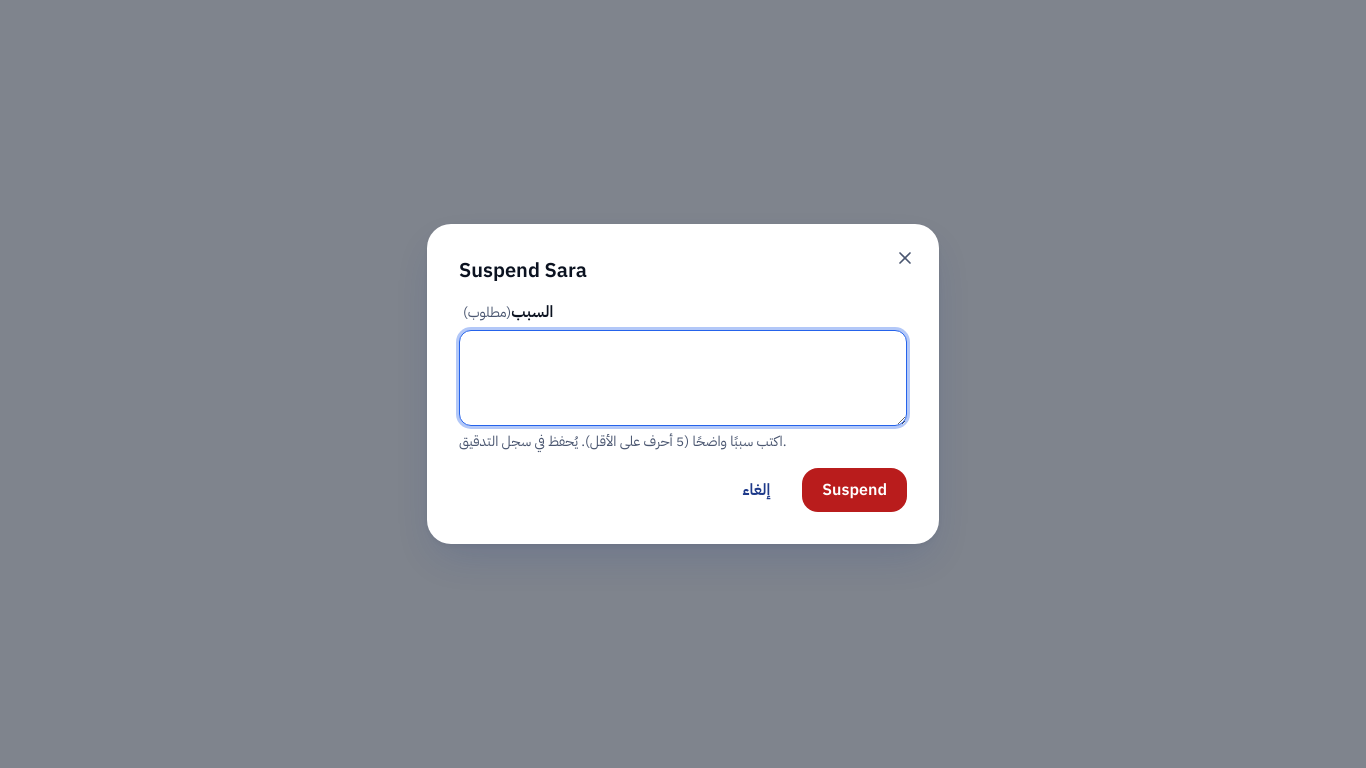
Test case: ConfirmDialog with a reason › keeps the dialog open and shows the API's reason when the write is refused
Type "Because I can" into the text box labelled "السبب(مطلوب)". click: [683, 378]
box: [459,330,907,426]
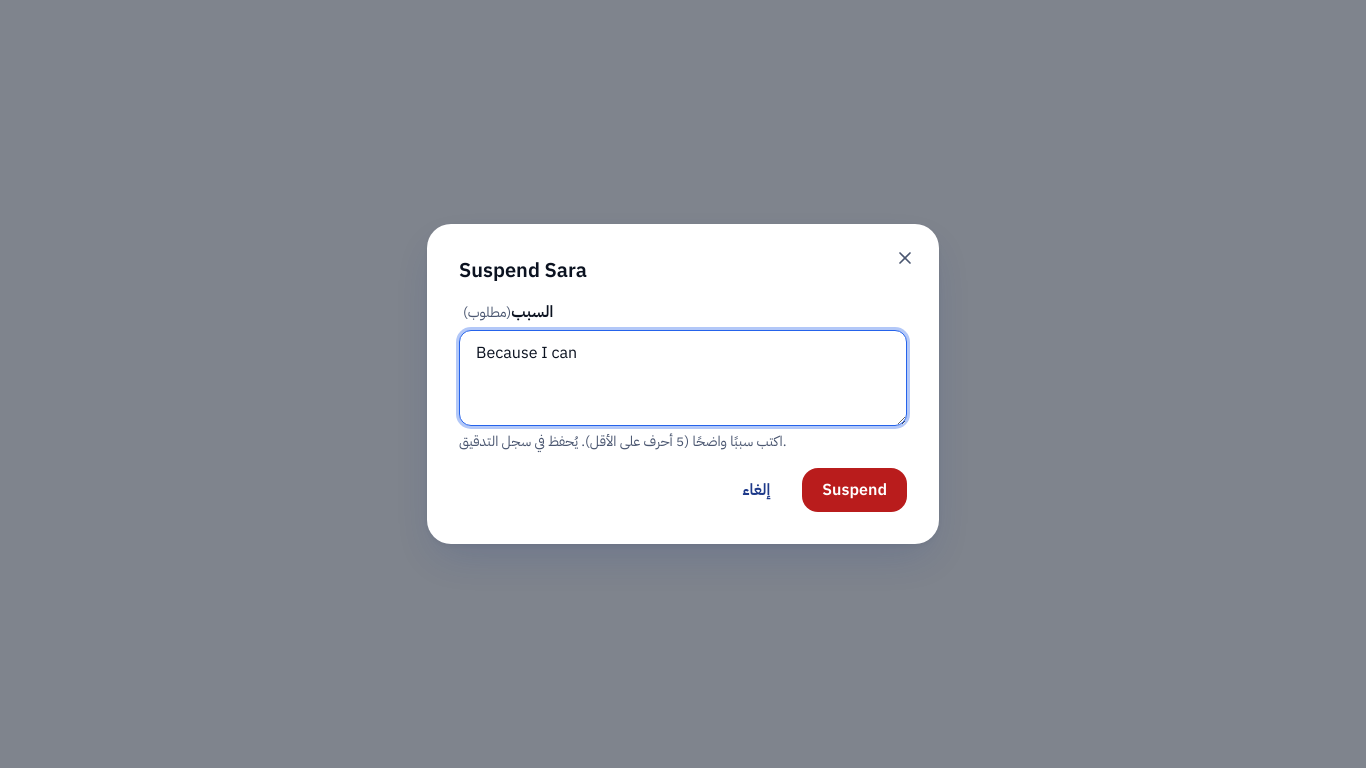
Click the button "Suspend". click: [855, 490]
box: [802,468,907,512]
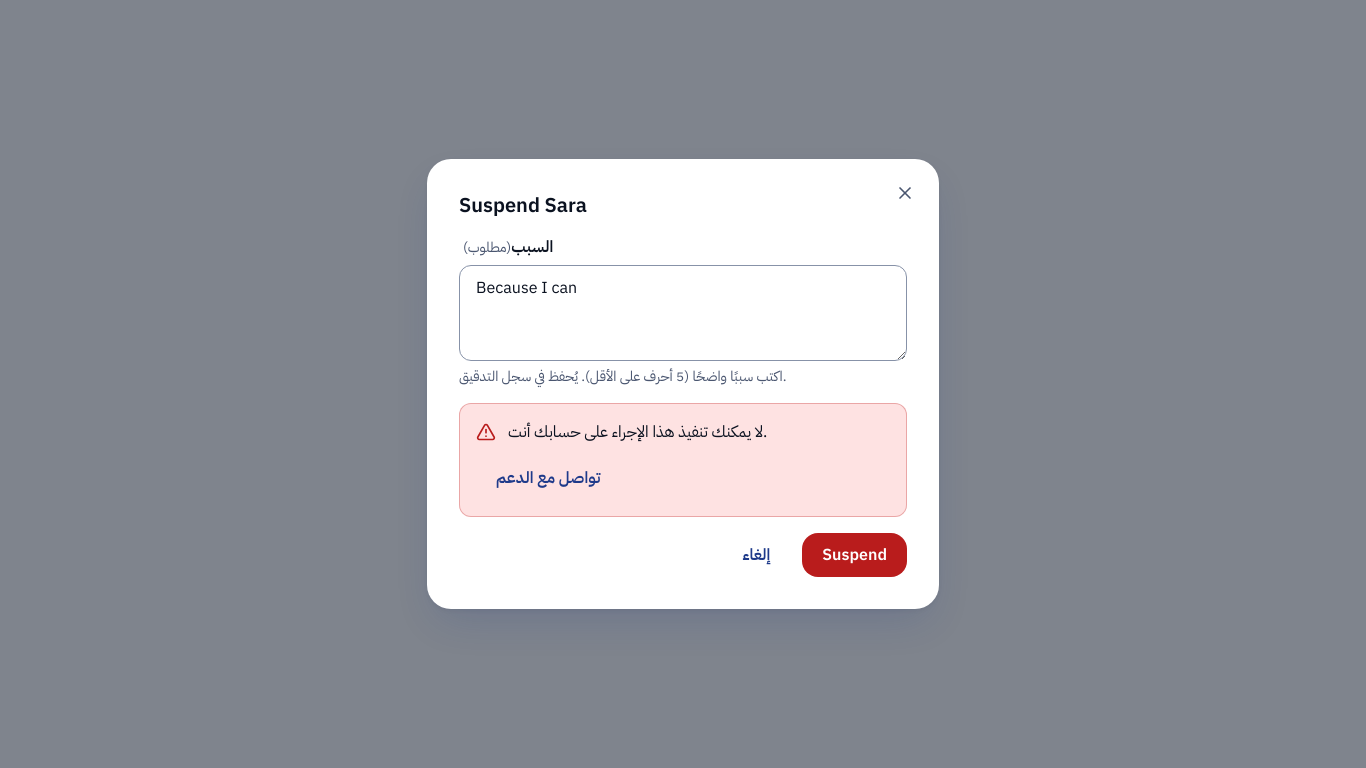
Check: the text "لا يمكنك تنفيذ هذا الإجراء على حسابك أنت." is shown, box [508,420,767,444]
